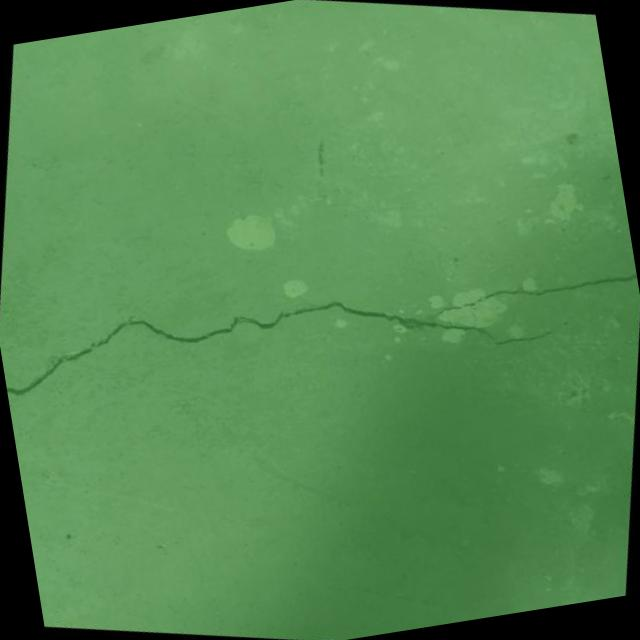crack: (0, 140, 640, 525)
